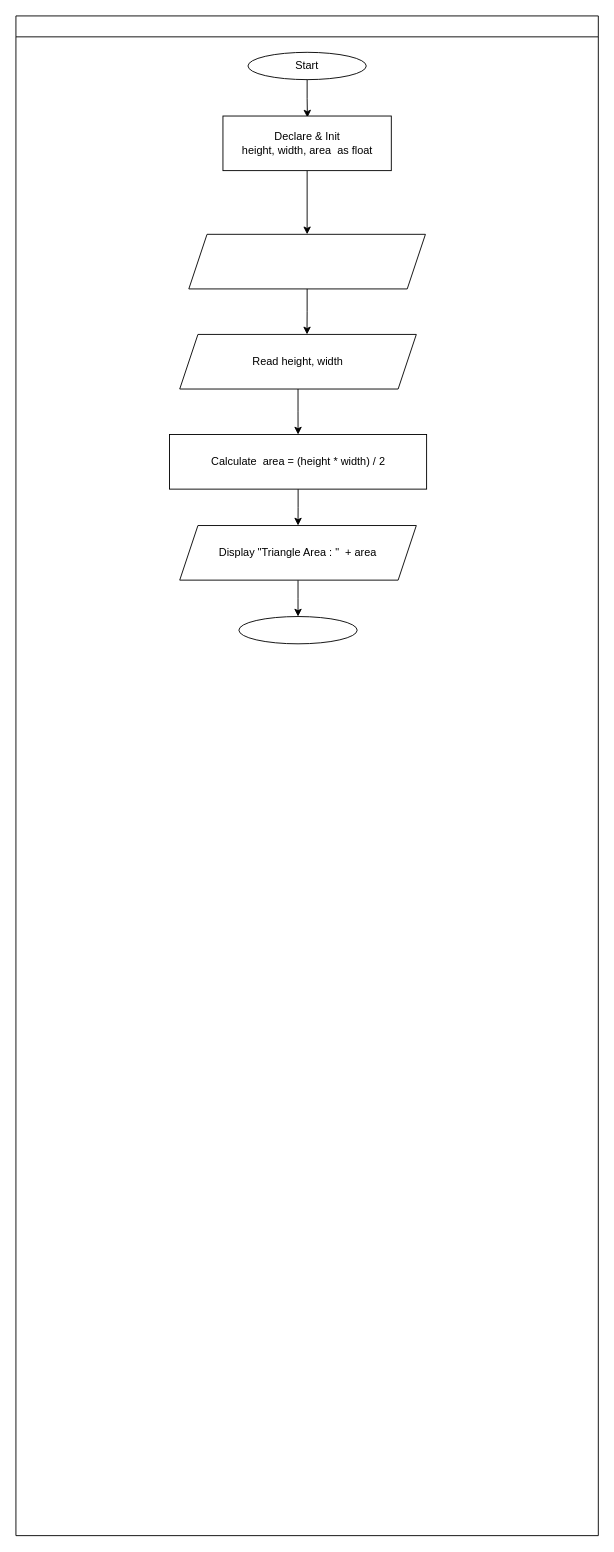
The diagram is 614 pixels wide and 1552 high, and some of its shapes have lost their labels. Here are the shapes that lost their labels. From the top down, the centre of each, then its label:
point 306,261: Display "Enter H & W : "
point 297,630: End
